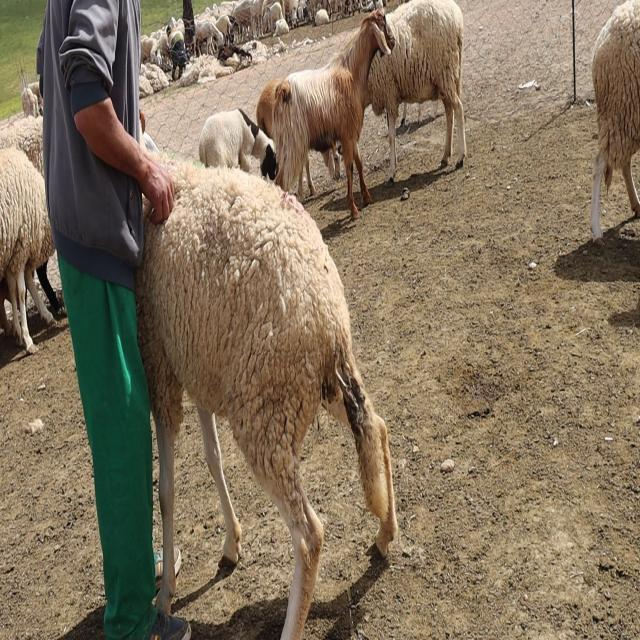Score_1: (135, 158, 397, 639)
